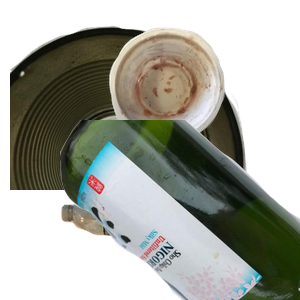glass: (60, 120, 300, 300)
metal: (10, 23, 250, 203)
plastic: (59, 193, 241, 300)
trash: (107, 25, 300, 162)
